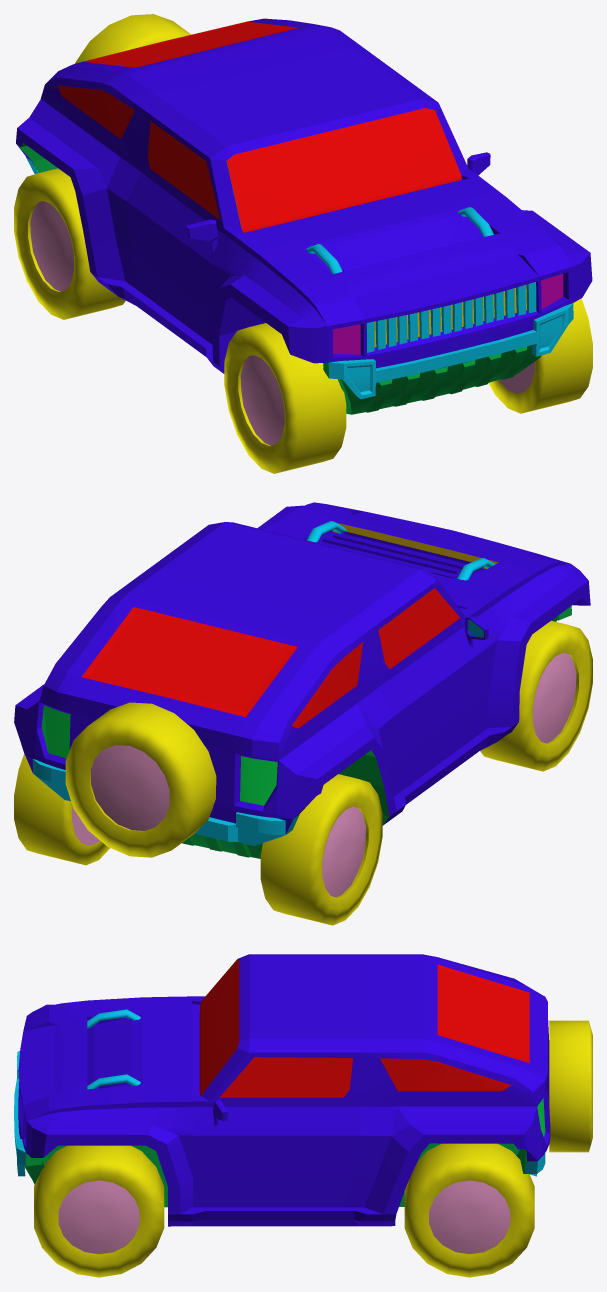
The model's file is 03_TitanZ1_ColorCoded.fbx.
The picture shows the model from 3 angles, top to bottom: view 1: azimuth 30°, elevation 25°; view 2: azimuth 150°, elevation 25°; view 3: azimuth 270°, elevation 25°; orthographic projection. The views are drawn at different scales.
Parts seen in each view (by area): view 1: Body, tireFrontR, tireBackR, tireFrontL, tire_Center; view 2: Body, tire_Center, tireBackR, tireFrontR, tireBackL; view 3: Body, tireBackL, tireFrontL, tire_Center.
Boxes of the visible parts, x1,y1,x2,y2 form: Body: [16, 18, 592, 414]; tireFrontR: [224, 323, 346, 473]; tireBackR: [14, 168, 125, 319]; tireFrontL: [488, 298, 592, 413]; tire_Center: [75, 14, 190, 63]; Body: [14, 502, 590, 858]; tire_Center: [65, 702, 216, 857]; tireBackR: [260, 774, 382, 925]; tireFrontR: [480, 620, 592, 771]; tireBackL: [14, 753, 109, 865]; Body: [14, 954, 550, 1226]; tireBackL: [404, 1143, 534, 1277]; tireFrontL: [34, 1145, 164, 1277]; tire_Center: [549, 1020, 592, 1152].
Bounding box in the file's own units: 63.5 × 119 × 49.38.
